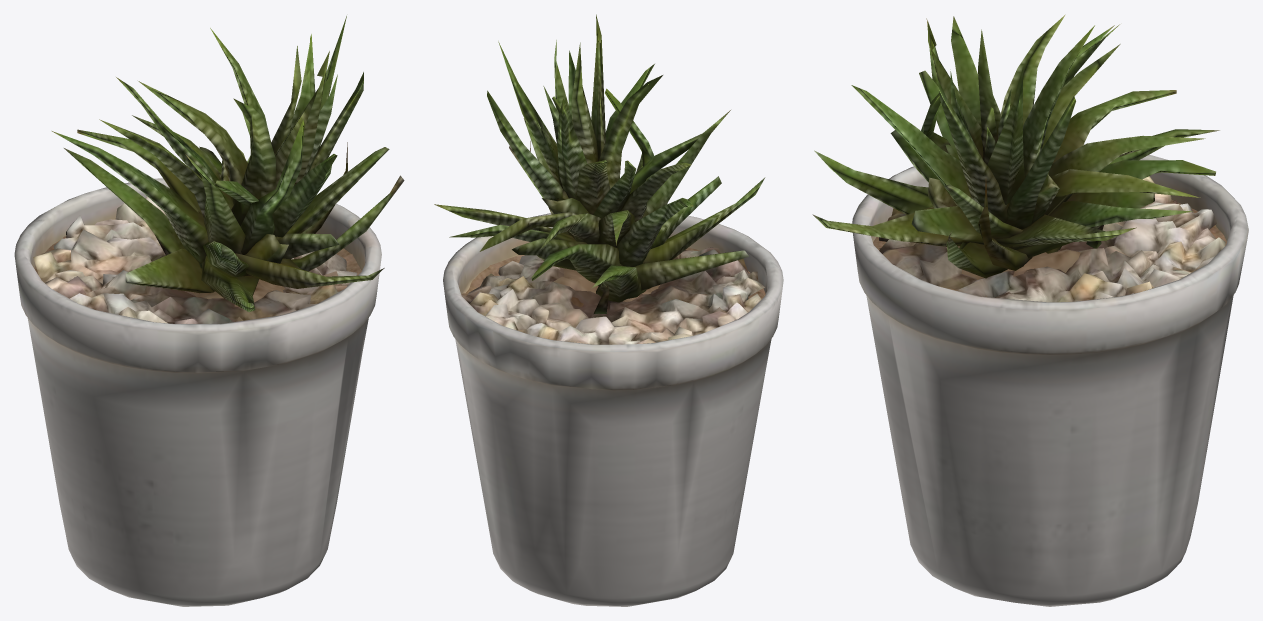
Rendered from pflanze_klein.glb.
3 renders of one model, left to right at view 1: azimuth 30°, elevation 25°; view 2: azimuth 150°, elevation 25°; view 3: azimuth 270°, elevation 25°, orthographic. The views are drawn at different scales.
Parts seen in each view (by area): view 1: potted_plant_04_pot, potted_plant_04_plant, potted_plant_04_ground, potted_plant_04_dirt; view 2: potted_plant_04_pot, potted_plant_04_plant, potted_plant_04_ground, potted_plant_04_dirt; view 3: potted_plant_04_pot, potted_plant_04_plant, potted_plant_04_ground, potted_plant_04_dirt.
Part boxes in pixels (bbox=[...]): potted_plant_04_pot: bbox=[14, 178, 381, 606]; potted_plant_04_plant: bbox=[52, 16, 404, 311]; potted_plant_04_ground: bbox=[33, 196, 357, 323]; potted_plant_04_dirt: bbox=[34, 236, 361, 307]; potted_plant_04_pot: bbox=[443, 213, 783, 606]; potted_plant_04_plant: bbox=[434, 14, 765, 314]; potted_plant_04_ground: bbox=[461, 247, 765, 344]; potted_plant_04_dirt: bbox=[461, 247, 765, 307]; potted_plant_04_pot: bbox=[852, 144, 1248, 606]; potted_plant_04_plant: bbox=[812, 14, 1219, 278]; potted_plant_04_ground: bbox=[879, 176, 1225, 302]; potted_plant_04_dirt: bbox=[873, 200, 1226, 296].
Size of the model in its own units: 0.1672 by 0.2671 by 0.1843.
1 material, 1 textured.
